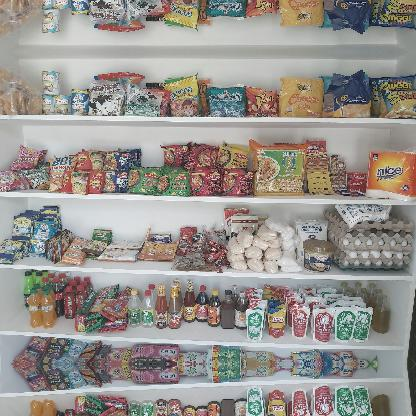Lady-s-Choice: (302, 239, 334, 273)
